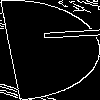I: (25, 25, 100, 44)
